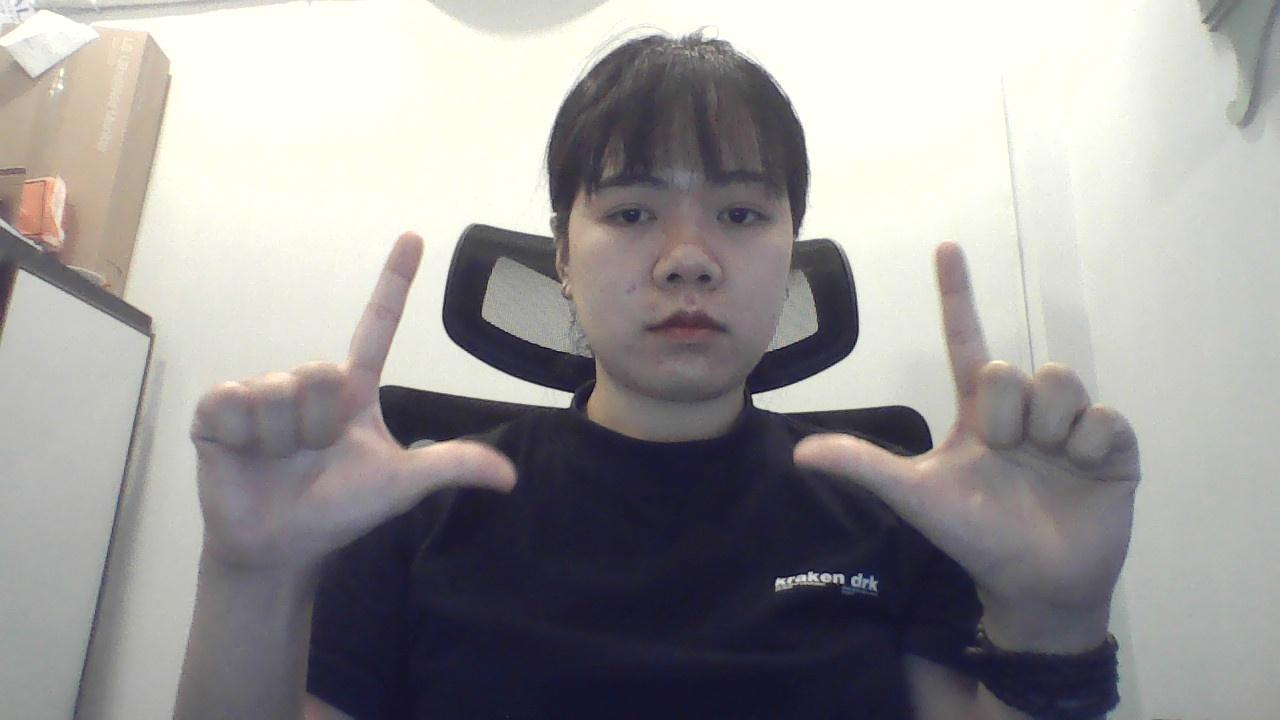L: (777, 237, 1154, 626), (180, 207, 522, 563)
